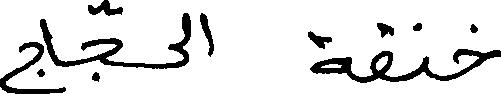X: (81, 0, 120, 86), (454, 19, 500, 83), (0, 37, 39, 93), (311, 27, 349, 81), (167, 8, 189, 72), (371, 18, 390, 86), (41, 14, 56, 93), (200, 8, 211, 61), (420, 18, 429, 81)
